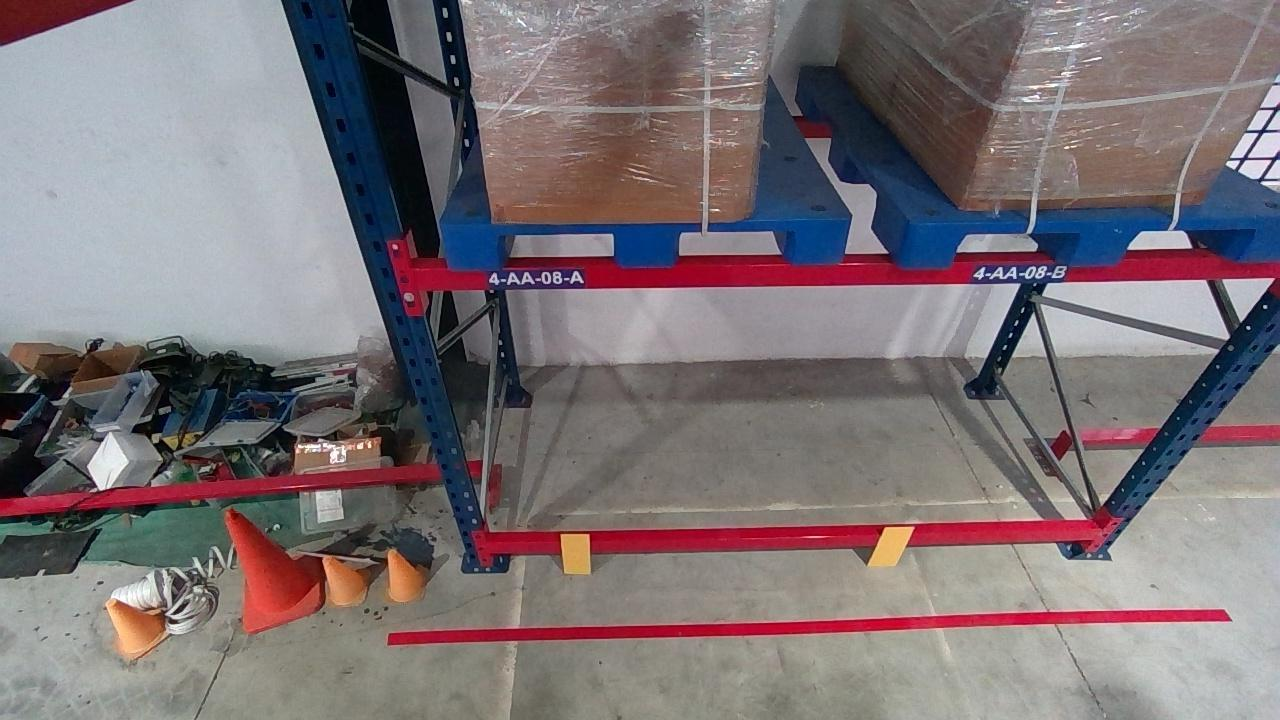h_rack: (411, 256, 1277, 288), (486, 528, 1101, 554)
orange_strip: (867, 525, 915, 565), (560, 533, 590, 573)
red_line: (387, 606, 1225, 644)
small_pallet: (444, 219, 849, 266), (901, 215, 1277, 263)
